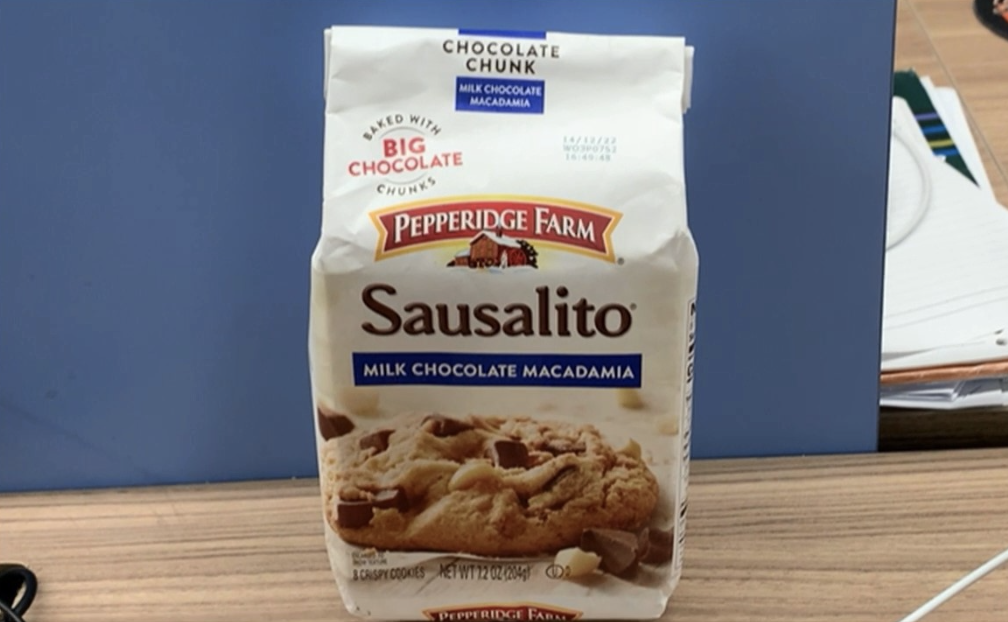cookies_150g: (340, 56, 652, 592)
